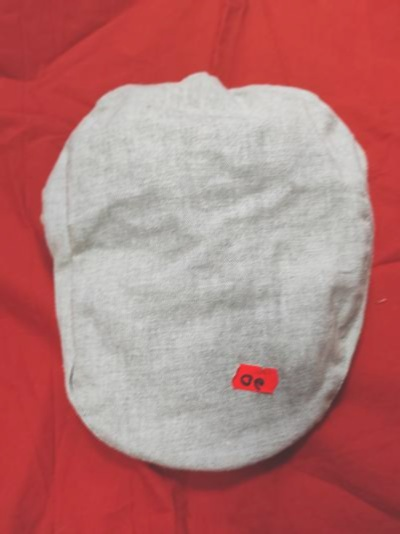Hat: (41, 44, 392, 474)
